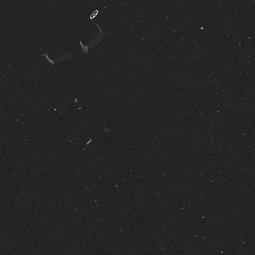proba_3_csc: (41, 0, 163, 163)
